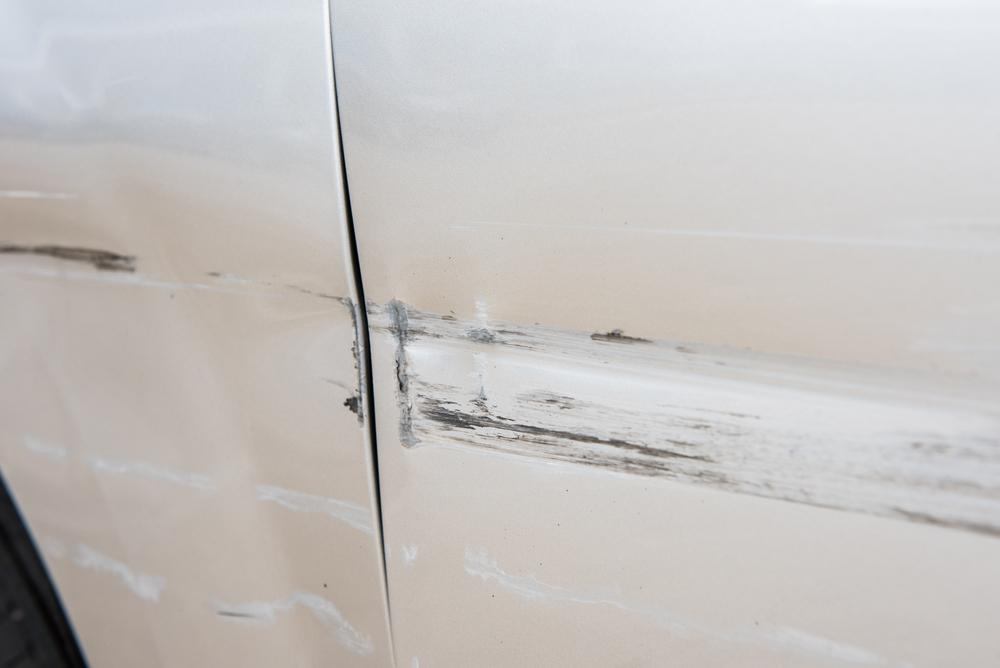dent: (111, 174, 351, 639)
scratch: (375, 294, 1000, 543), (458, 543, 916, 668), (18, 430, 191, 491), (48, 532, 178, 603), (0, 235, 122, 288)
